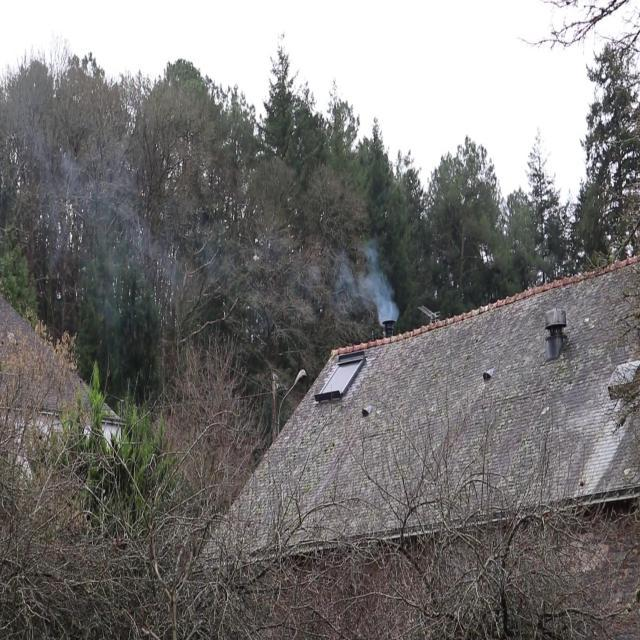Smoke: (337, 240, 400, 325)
